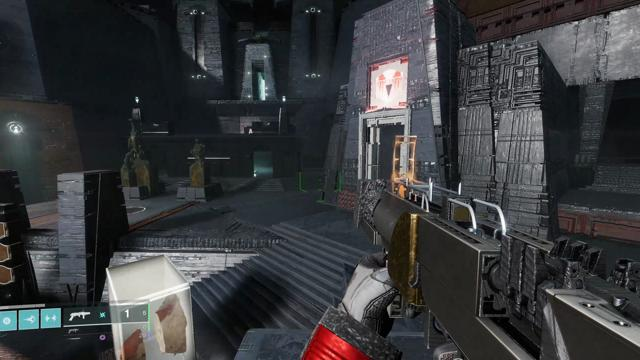enter: (245, 127, 252, 134)
give: (376, 69, 403, 102)
